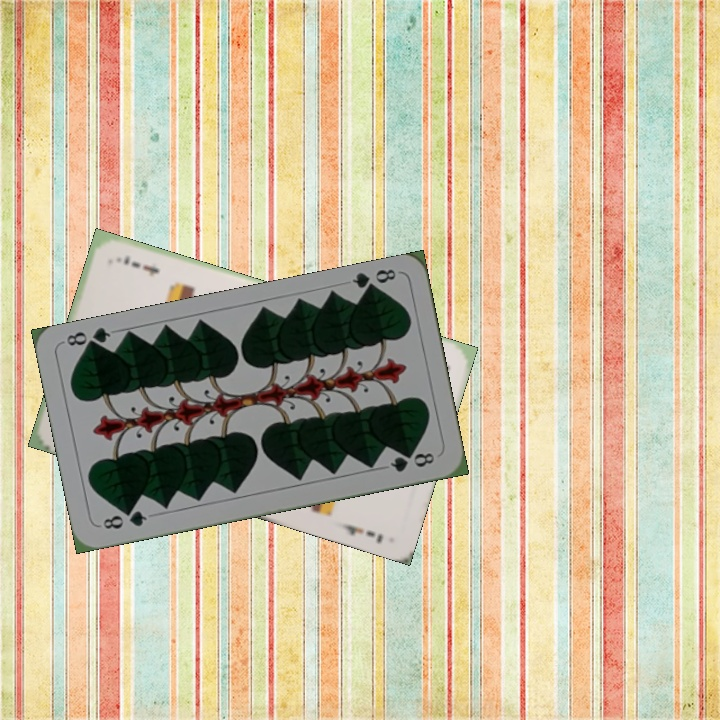G8: (348, 264, 399, 297), (99, 506, 150, 532)
